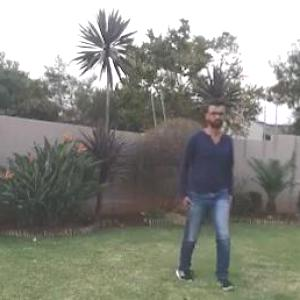follow: (188, 98, 236, 264)
